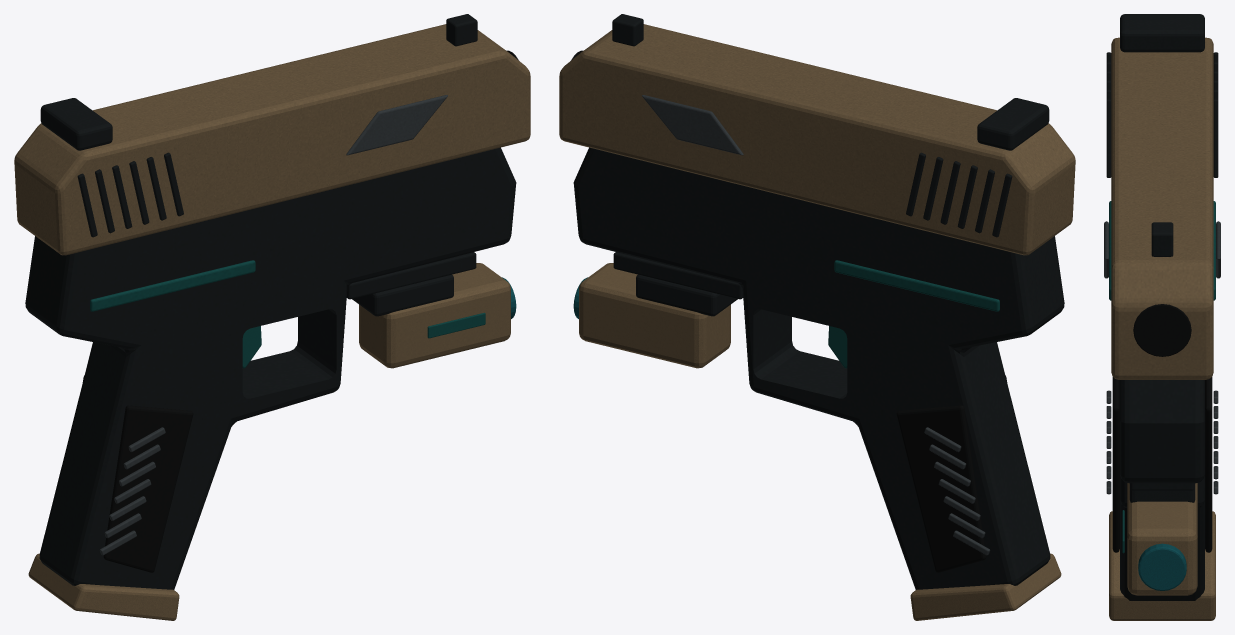
Rendered from mote03.standard.glb.
3 views of the same model, side by side, from view 1: azimuth 30°, elevation 25°; view 2: azimuth 150°, elevation 25°; view 3: azimuth 270°, elevation 25° (orthographic). The views are drawn at different scales.
Visible parts, largest first — view 1: mote03.standard__root, mote03.standard__slide, mote03.standard__light, mote03.standard__magazine; view 2: mote03.standard__root, mote03.standard__slide, mote03.standard__light, mote03.standard__magazine; view 3: mote03.standard__slide, mote03.standard__root, mote03.standard__light, mote03.standard__magazine.
Part boxes in pixels (box(x1,y1,x2,y2)): mote03.standard__root: box(25, 147, 516, 589); mote03.standard__slide: box(14, 14, 530, 255); mote03.standard__light: box(352, 263, 516, 368); mote03.standard__magazine: box(28, 553, 179, 620); mote03.standard__root: box(573, 147, 1064, 589); mote03.standard__slide: box(559, 14, 1075, 255); mote03.standard__light: box(573, 263, 737, 368); mote03.standard__magazine: box(910, 553, 1061, 620); mote03.standard__slide: box(1104, 14, 1220, 379); mote03.standard__root: box(1106, 201, 1218, 600); mote03.standard__light: box(1122, 483, 1197, 595); mote03.standard__magazine: box(1109, 511, 1215, 620).
Bounding box in the file's own units: 0.2493 × 0.2539 × 0.048.
6 materials, 6 textured.
